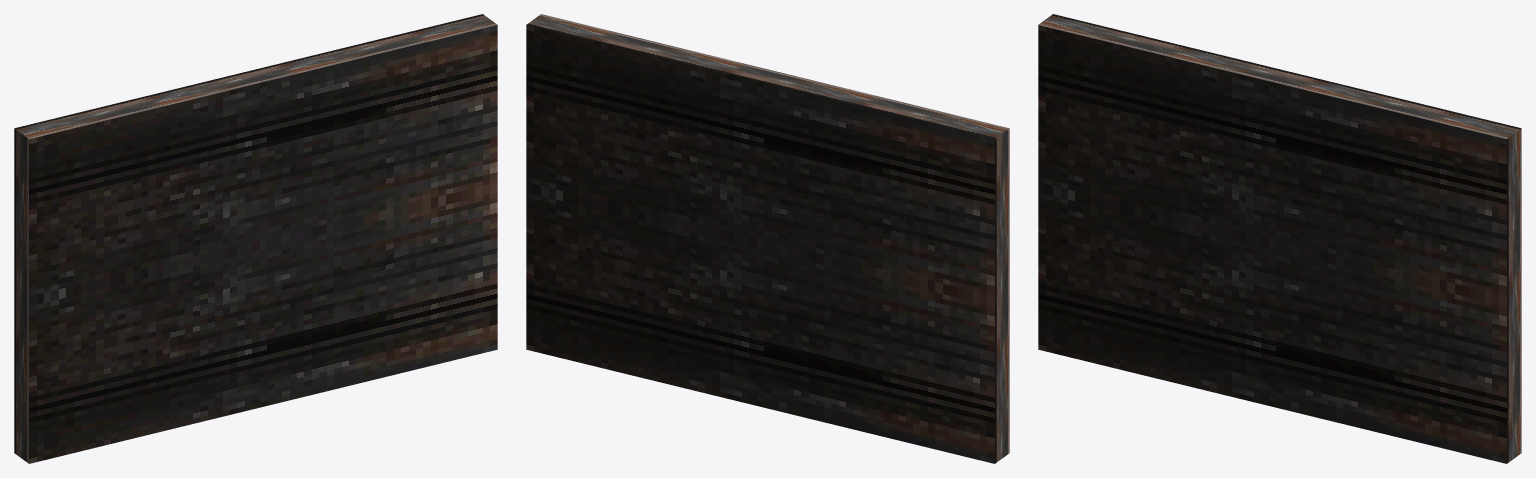
Rendered from primary_110.glb.
3 views of the same model, side by side, from view 1: azimuth 30°, elevation 25°; view 2: azimuth 150°, elevation 25°; view 3: azimuth 330°, elevation 25° (orthographic).
Parts seen in each view (by area): view 1: Object; view 2: Object; view 3: Object.
Part boxes in pixels (x1,y1,x2,y2): Object: [14, 14, 497, 463]; Object: [526, 14, 1009, 463]; Object: [1038, 14, 1521, 463].
Bounding box in the file's own units: 7.02 × 4.65 × 0.3873.
3 materials, 3 textured.
